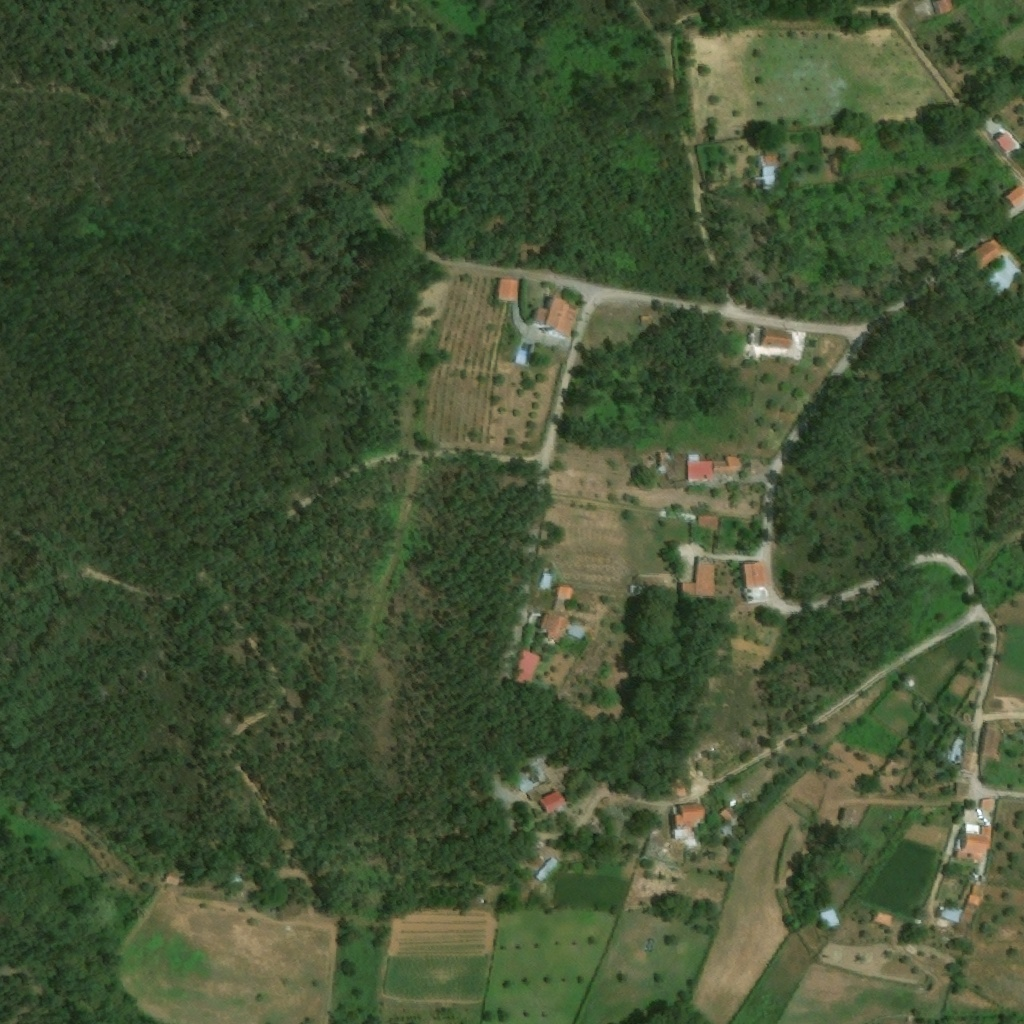0 no-damage: (547, 293, 582, 339), (983, 255, 1022, 296), (957, 822, 994, 863), (682, 561, 717, 598), (971, 237, 1006, 270), (744, 560, 769, 602), (540, 610, 572, 642), (515, 649, 541, 686), (651, 453, 687, 476), (676, 804, 707, 830), (540, 788, 570, 814), (688, 455, 716, 481), (761, 328, 794, 348), (982, 727, 1004, 757), (940, 901, 966, 925), (535, 857, 559, 882), (762, 156, 777, 193), (871, 908, 897, 927), (949, 733, 965, 762), (497, 279, 518, 301), (996, 132, 1017, 153), (820, 908, 841, 929), (1006, 184, 1023, 209), (727, 455, 746, 474), (720, 805, 739, 824), (569, 621, 587, 638), (558, 585, 576, 601), (533, 307, 548, 325), (673, 783, 691, 798), (699, 516, 719, 529), (541, 572, 555, 589), (965, 821, 983, 834), (714, 459, 728, 474), (968, 893, 983, 906), (554, 598, 567, 609), (983, 799, 996, 810), (676, 830, 689, 838)
4 un-classified: (662, 518, 687, 544), (932, 0, 954, 16)
